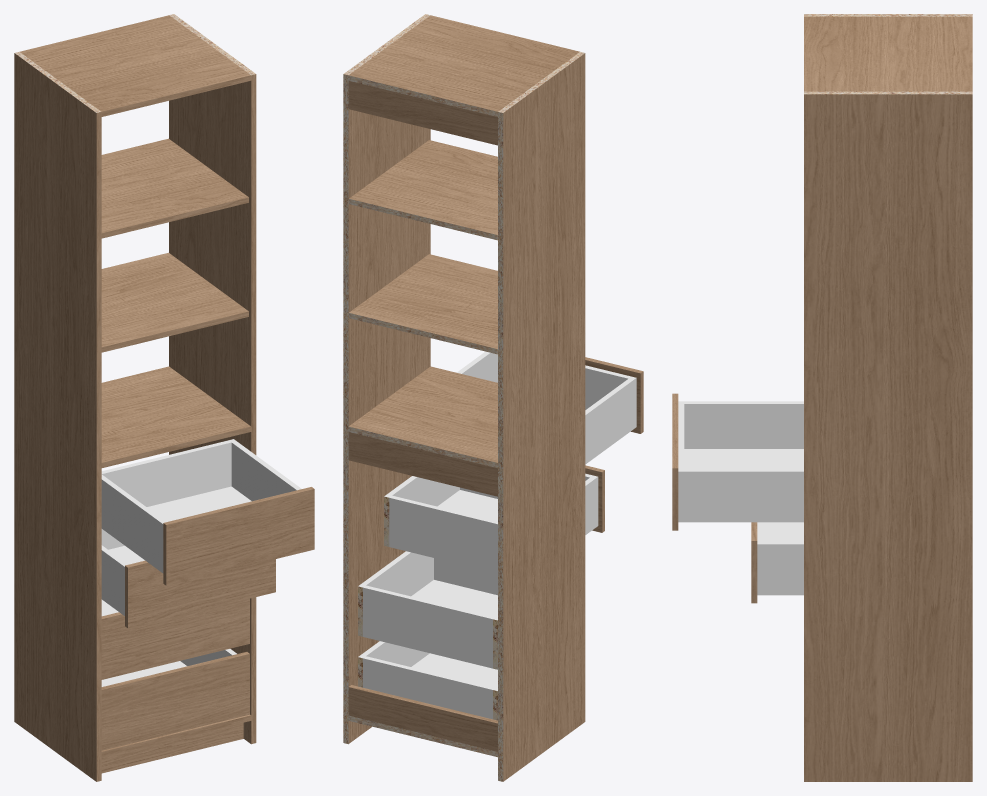
File: Insert Cabinet.glb
3 views of the same model, side by side, from view 1: azimuth 30°, elevation 25°; view 2: azimuth 150°, elevation 25°; view 3: azimuth 270°, elevation 25° (orthographic). The views are drawn at different scales.
Visible parts, largest first — view 1: Cube.002, Cube.006, Cube.005, Cube.014, Cube.001, Cube.011, Cube.004, Cube.003, Cube.012, Cube.013, Cube.033, Cube.031 (+6 smaller); view 2: Cube.002, Cube.006, Cube.005, Cube.001, Cube.003, Cube.004, Cube.023, Cube.026, Cube.009, Cube.008, Cube.007, Cube.016 (+14 smaller); view 3: Cube.006, Cube.005, Cube.030, Cube.031, Cube.029, Cube.032, Cube.014, Cube.027, Cube.013.
Boxes of the visible parts, x1=… form: Cube.002: x1=14, y1=51, x2=101, y2=781; Cube.006: x1=169, y1=14, x2=256, y2=744; Cube.005: x1=20, y1=15, x2=251, y2=116; Cube.014: x1=163, y1=487, x2=314, y2=585; Cube.001: x1=101, y1=366, x2=251, y2=467; Cube.011: x1=101, y1=652, x2=249, y2=750; Cube.004: x1=101, y1=252, x2=248, y2=352; Cube.003: x1=101, y1=138, x2=248, y2=238; Cube.012: x1=101, y1=598, x2=249, y2=679; Cube.013: x1=125, y1=559, x2=275, y2=628; Cube.033: x1=101, y1=440, x2=231, y2=506; Cube.031: x1=101, y1=474, x2=166, y2=573; Cube.002: x1=498, y1=51, x2=585, y2=781; Cube.006: x1=343, y1=14, x2=430, y2=744; Cube.005: x1=348, y1=15, x2=579, y2=116; Cube.001: x1=348, y1=366, x2=497, y2=468; Cube.003: x1=349, y1=140, x2=497, y2=240; Cube.004: x1=349, y1=254, x2=497, y2=354; Cube.023: x1=363, y1=585, x2=495, y2=668; Cube.026: x1=389, y1=495, x2=497, y2=573; Cube.009: x1=348, y1=685, x2=497, y2=751; Cube.008: x1=348, y1=432, x2=497, y2=496; Cube.007: x1=348, y1=81, x2=497, y2=145; Cube.016: x1=363, y1=656, x2=495, y2=719; Cube.006: x1=804, y1=91, x2=972, y2=781; Cube.005: x1=804, y1=16, x2=972, y2=91; Cube.030: x1=678, y1=469, x2=803, y2=522; Cube.031: x1=678, y1=401, x2=803, y2=448; Cube.029: x1=757, y1=542, x2=803, y2=595; Cube.032: x1=684, y1=449, x2=803, y2=468; Cube.014: x1=672, y1=393, x2=678, y2=530; Cube.027: x1=763, y1=522, x2=803, y2=541; Cube.013: x1=751, y1=522, x2=757, y2=603.
Size of the model in its own units: 0.5 by 2 by 0.792.
Materials: 3 (3 with a texture image).
